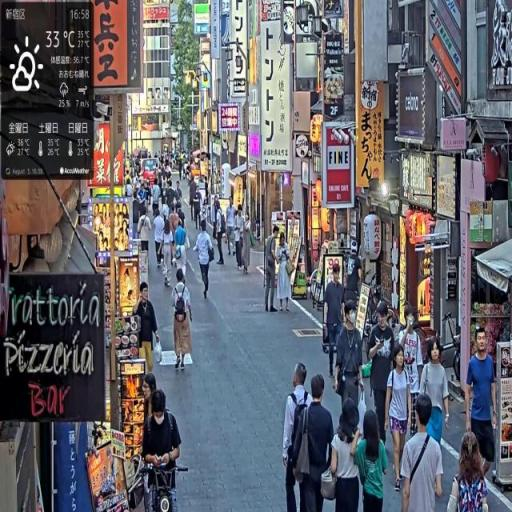person: (292, 373, 336, 512), (466, 330, 499, 488), (400, 394, 444, 512), (141, 386, 182, 512), (367, 302, 397, 453), (283, 363, 313, 512), (386, 344, 415, 497), (420, 341, 451, 481), (335, 300, 367, 432), (329, 401, 364, 512), (354, 407, 390, 512), (447, 430, 492, 512), (133, 281, 163, 374), (324, 265, 347, 383), (172, 268, 196, 373), (276, 228, 295, 316), (197, 220, 216, 303), (265, 225, 280, 316), (215, 199, 228, 268), (235, 204, 247, 274), (154, 209, 165, 272), (226, 198, 237, 259)
